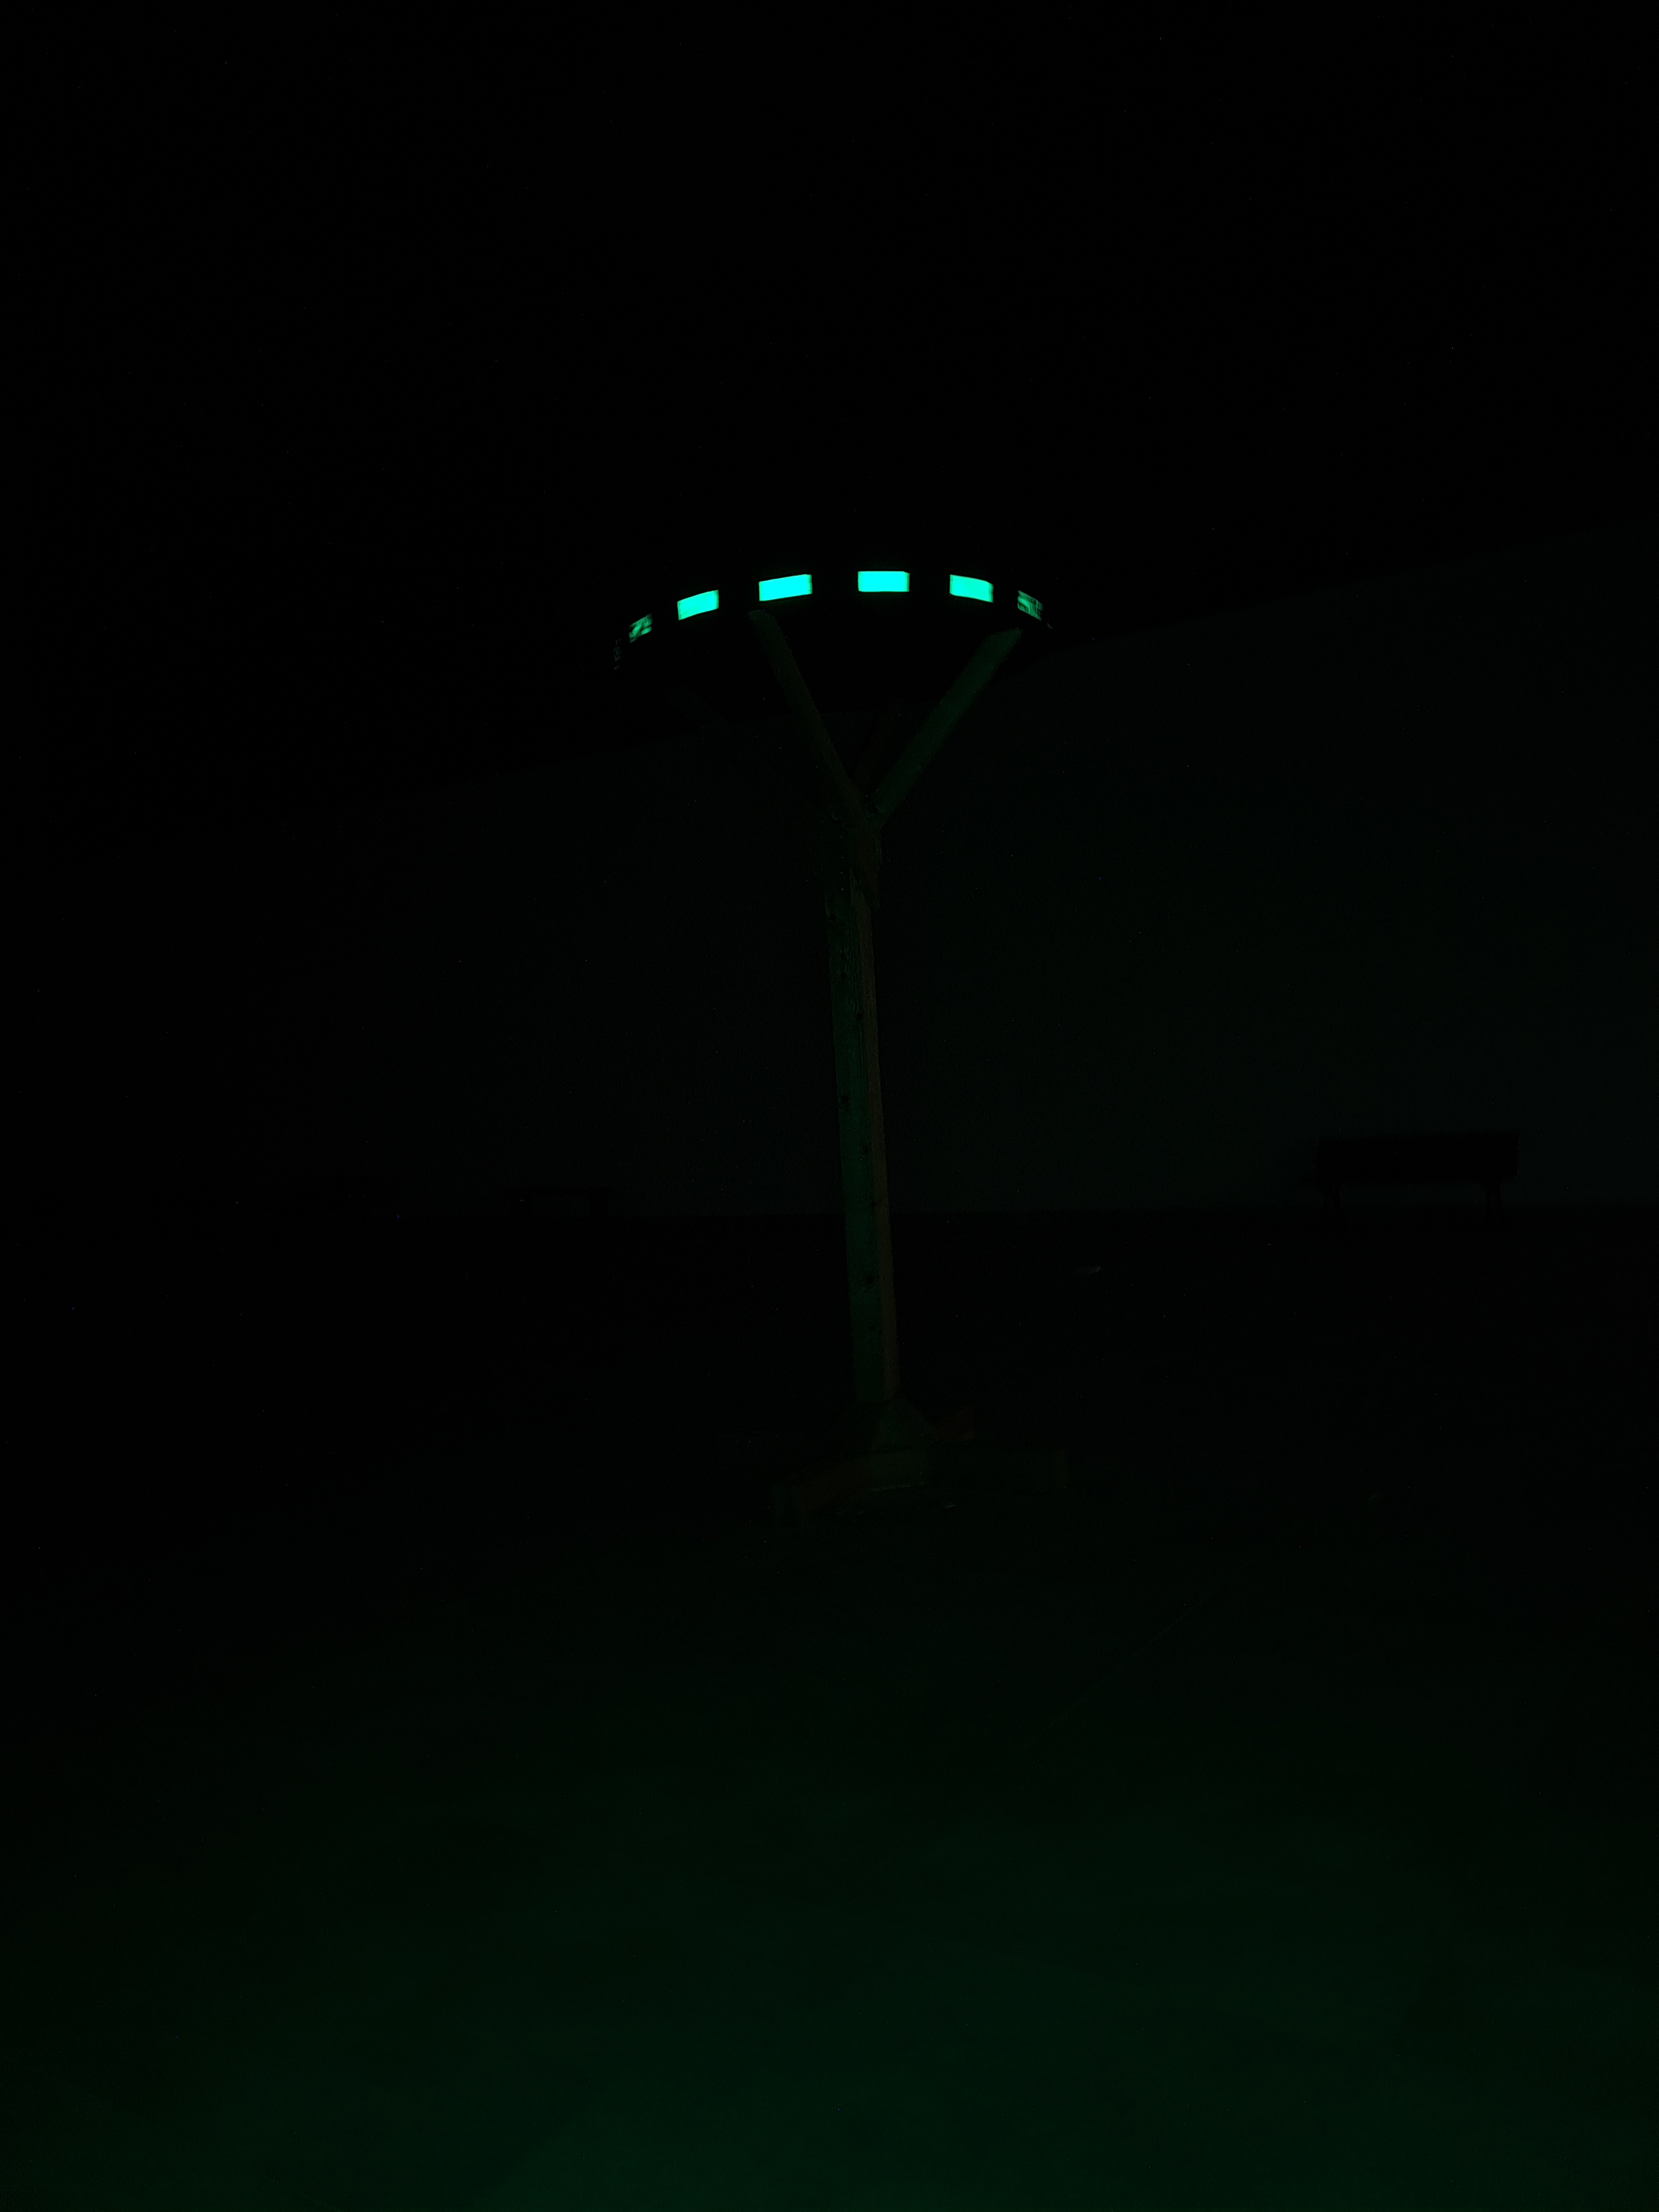hoop: (624, 564, 1044, 641)
